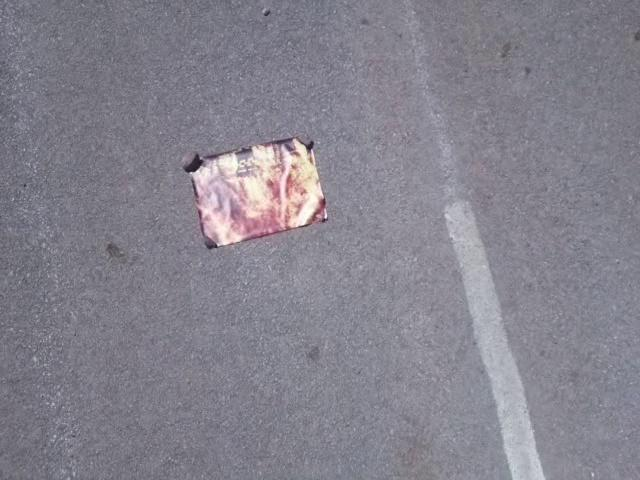fire-poster: (180, 134, 329, 251)
